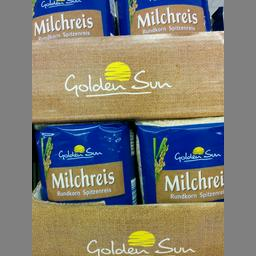rice: (33, 120, 137, 202), (134, 116, 223, 202), (114, 0, 212, 34), (30, 0, 116, 38)
